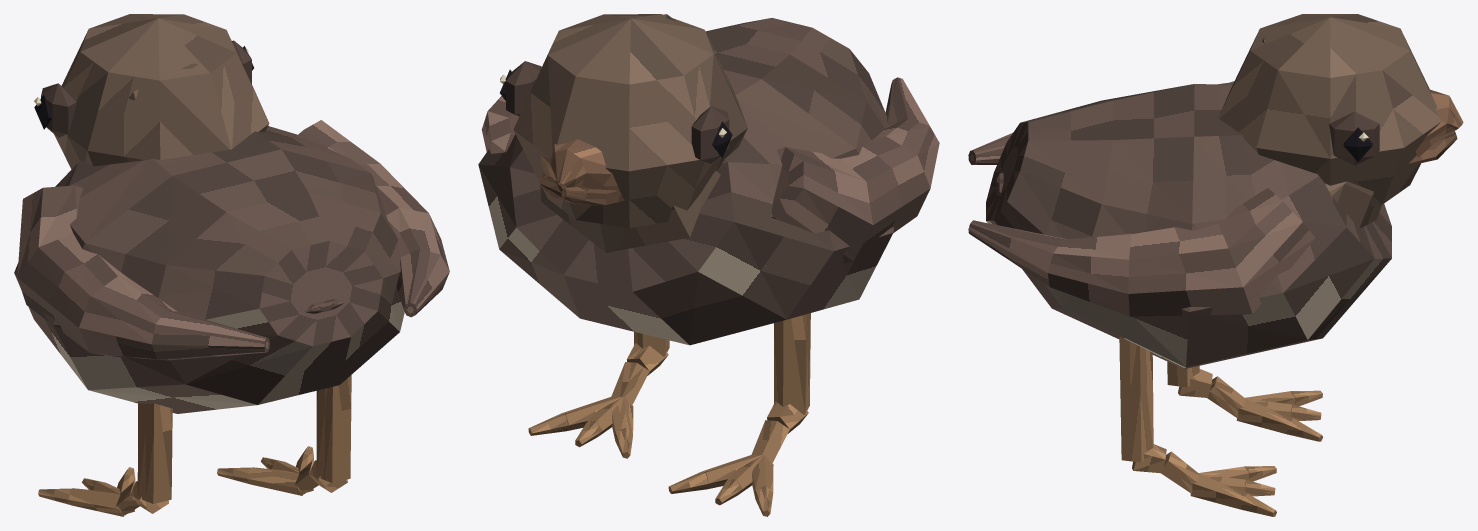
Rendered from mon_pigeon_chick.glb.
3 views of the same model, side by side, from view 1: azimuth 30°, elevation 25°; view 2: azimuth 150°, elevation 25°; view 3: azimuth 270°, elevation 25° (orthographic). The views are drawn at different scales.
Parts seen in each view (by area): view 1: closed_body; view 2: closed_body; view 3: closed_body.
Part boxes in pixels (x1,y1,x2,y2): closed_body: [14, 14, 449, 516]; closed_body: [478, 14, 939, 516]; closed_body: [968, 14, 1463, 516].
Size of the model in its own units: 0.0799 by 0.0921 by 0.0935.
1 material, 1 textured.
